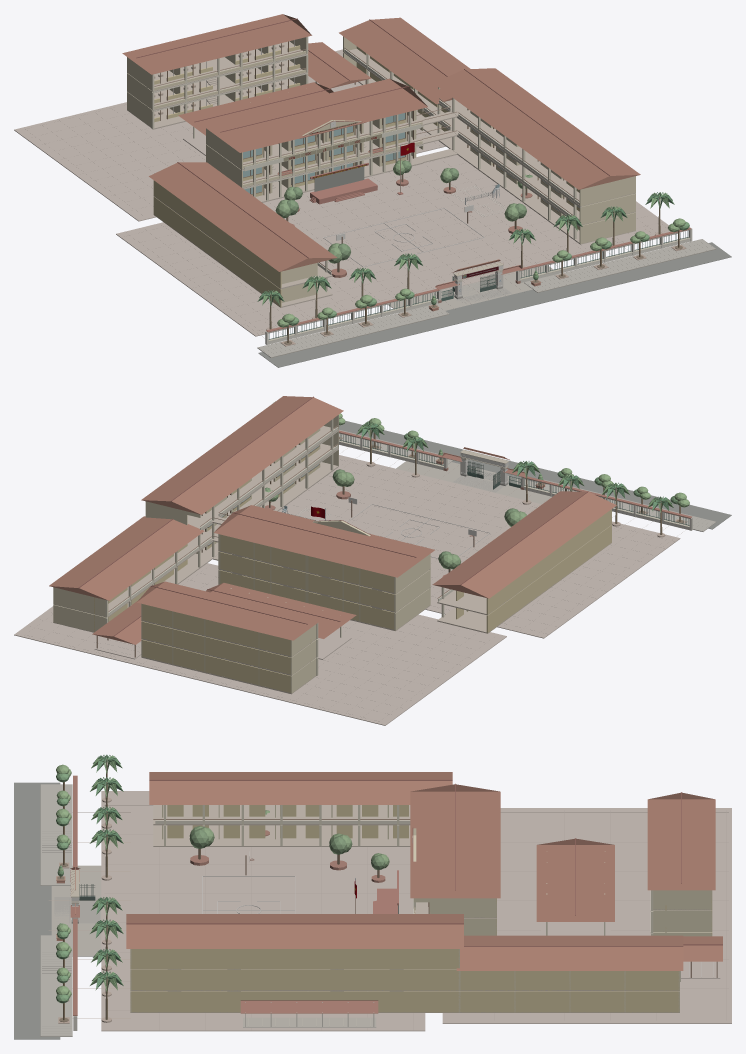
Rendered from kien_an_campus_v17_street_landscaping.glb.
3 views of the same model, one above another, from view 1: azimuth 30°, elevation 25°; view 2: azimuth 150°, elevation 25°; view 3: azimuth 270°, elevation 25° (orthographic). The views are drawn at different scales.
Parts seen in each view (by area): view 1: GROUND_COURTYARD, REAR_COURTYARD_GROUND, RIGHT_ROOF, LEFT_ROOF, CENTER_ROOF, OUTSIDE_MAIN_ROAD, RIGHT_REAR_2F_ROOF, REAR_ROOF, LEFT_BACK_0, EXTERIOR_SIDEWALK_LEFT, EXTERIOR_SIDEWALK_RIGHT, REAR_COVERED_PLAY_ROOF (+20 smaller); view 2: GROUND_COURTYARD, REAR_COURTYARD_GROUND, RIGHT_ROOF, LEFT_ROOF, CENTER_ROOF, RIGHT_REAR_2F_ROOF, REAR_ROOF, CENTER_REAR_1, CENTER_REAR_2, OUTSIDE_MAIN_ROAD, REAR_REAR_1, REAR_REAR_0 (+22 smaller); view 3: GROUND_COURTYARD, REAR_COURTYARD_GROUND, RIGHT_ROOF, CENTER_ROOF, LEFT_ROOF, RIGHT_REAR_2F_ROOF, OUTSIDE_MAIN_ROAD, RIGHT_BACK_WALL_1, RIGHT_BACK_WALL_2, REAR_ROOF, REAR_COVERED_PLAY_ROOF, RIGHT_BACK_WALL_0 (+22 smaller).
Part boxes in pixels (box(x1,y1,x2,y2)): GROUND_COURTYARD: box(116, 154, 677, 336); REAR_COURTYARD_GROUND: box(14, 49, 445, 221); RIGHT_ROOF: box(433, 68, 640, 189); LEFT_ROOF: box(149, 162, 337, 271); CENTER_ROOF: box(201, 78, 427, 152); OUTSIDE_MAIN_ROAD: box(258, 242, 731, 367); RIGHT_REAR_2F_ROOF: box(339, 17, 470, 104); REAR_ROOF: box(122, 14, 311, 74); LEFT_BACK_0: box(153, 196, 281, 307); EXTERIOR_SIDEWALK_LEFT: box(257, 304, 448, 357); EXTERIOR_SIDEWALK_RIGHT: box(524, 239, 715, 292); REAR_COVERED_PLAY_ROOF: box(178, 82, 333, 135); GROUND_COURTYARD: box(278, 455, 680, 638); REAR_COURTYARD_GROUND: box(14, 563, 506, 725); RIGHT_ROOF: box(141, 396, 343, 514); LEFT_ROOF: box(432, 491, 616, 598); CENTER_ROOF: box(214, 505, 434, 577); RIGHT_REAR_2F_ROOF: box(49, 516, 204, 600); REAR_ROOF: box(136, 581, 321, 640); CENTER_REAR_1: box(218, 551, 395, 611); CENTER_REAR_2: box(220, 534, 393, 592); OUTSIDE_MAIN_ROAD: box(339, 420, 731, 529); REAR_REAR_1: box(142, 621, 291, 674); REAR_REAR_0: box(142, 639, 291, 692); GROUND_COURTYARD: box(101, 791, 425, 1031); REAR_COURTYARD_GROUND: box(442, 808, 731, 1023); RIGHT_ROOF: box(126, 914, 463, 948); CENTER_ROOF: box(410, 784, 500, 898); LEFT_ROOF: box(149, 772, 452, 804); RIGHT_REAR_2F_ROOF: box(456, 935, 683, 970); OUTSIDE_MAIN_ROAD: box(14, 782, 60, 1039); RIGHT_BACK_WALL_1: box(130, 969, 459, 990); RIGHT_BACK_WALL_2: box(130, 949, 459, 969); REAR_ROOF: box(647, 792, 715, 890); REAR_COVERED_PLAY_ROOF: box(536, 838, 614, 921); RIGHT_BACK_WALL_0: box(130, 991, 459, 1012).
Bounding box in the file's own units: 105 × 14.56 × 124.
9 materials, 9 textured.
